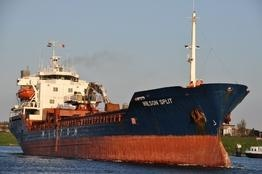Cargoship: (5, 1, 251, 168)
